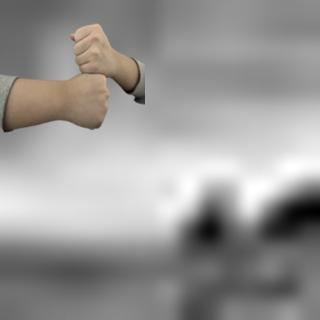CAREFUL: (22, 23, 136, 132)
